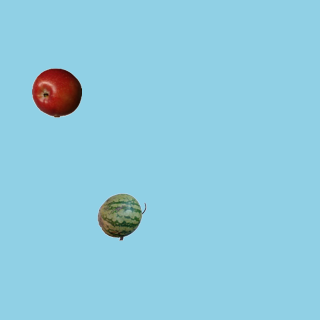Apple Braeburn: (31, 67, 81, 117)
Watermelon: (96, 191, 146, 241)
